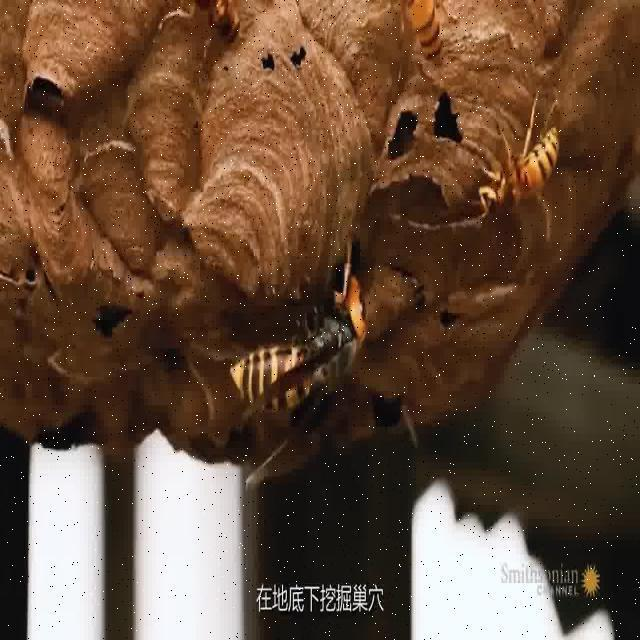Wasp: (223, 230, 369, 430)
